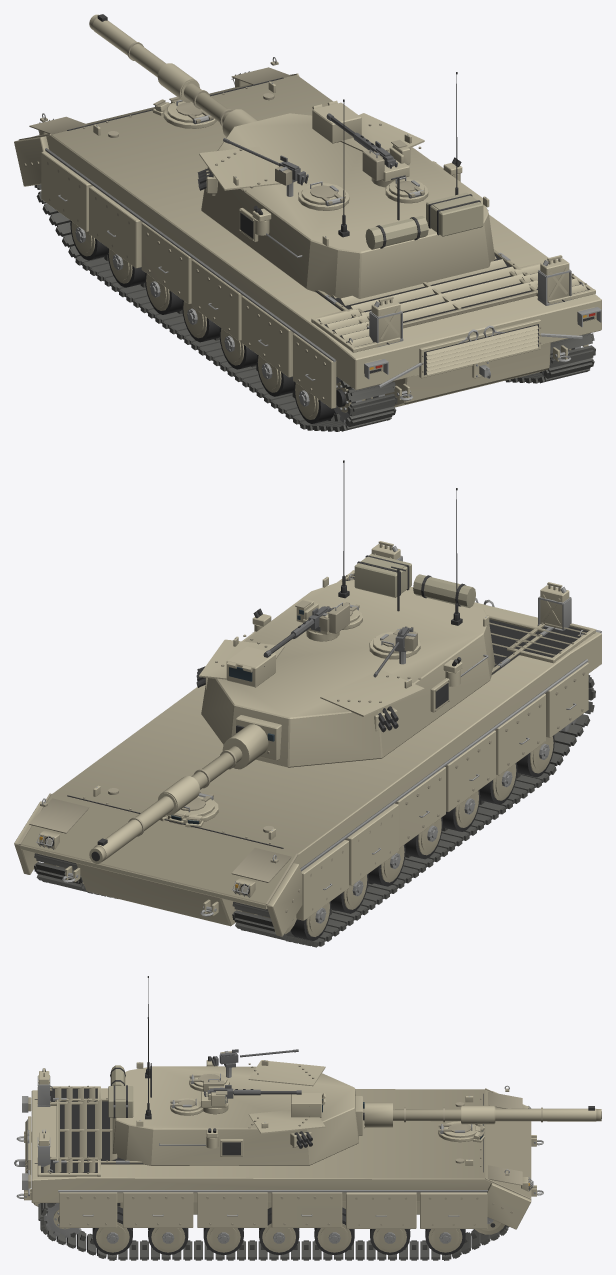
The model's file is usa_mbt_e3.glb.
The picture shows the model from 3 angles, top to bottom: view 1: azimuth 30°, elevation 25°; view 2: azimuth 150°, elevation 25°; view 3: azimuth 270°, elevation 25°; orthographic projection. The views are drawn at different scales.
Visible parts, largest first — view 1: body, turret, barrel; view 2: body, turret, barrel; view 3: body, turret, barrel.
Part boxes in pixels (box(x1,y1,x2,y2)): body: box(14, 57, 601, 431); turret: box(197, 72, 494, 298); barrel: box(89, 14, 257, 137); body: box(14, 541, 601, 947); turret: box(196, 460, 494, 767); barrel: box(89, 724, 268, 863); body: box(14, 1068, 543, 1260); turret: box(108, 976, 364, 1165); barrel: box(364, 1102, 601, 1127).
Size of the model in its own units: 3.65 by 3.85 by 9.33.
